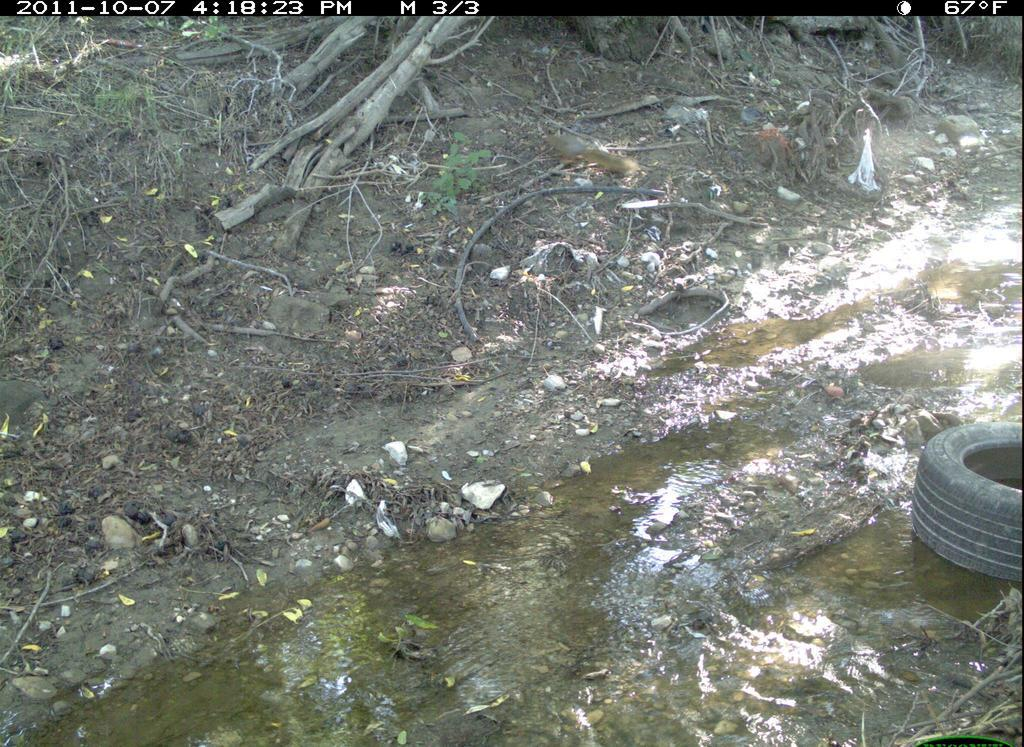squirrel: (536, 130, 643, 187)
